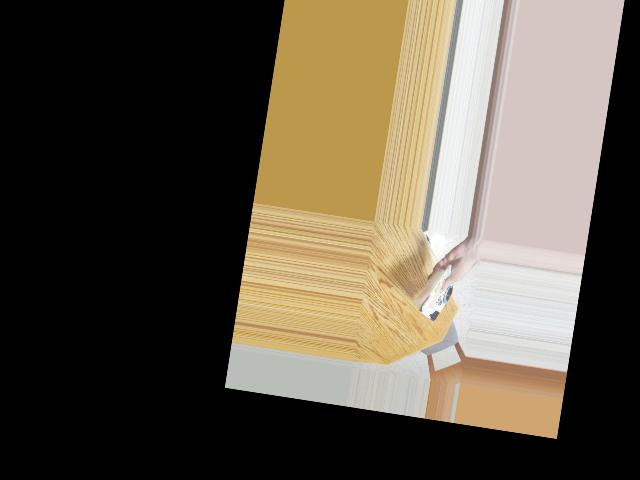cheese: (413, 268, 464, 321)
